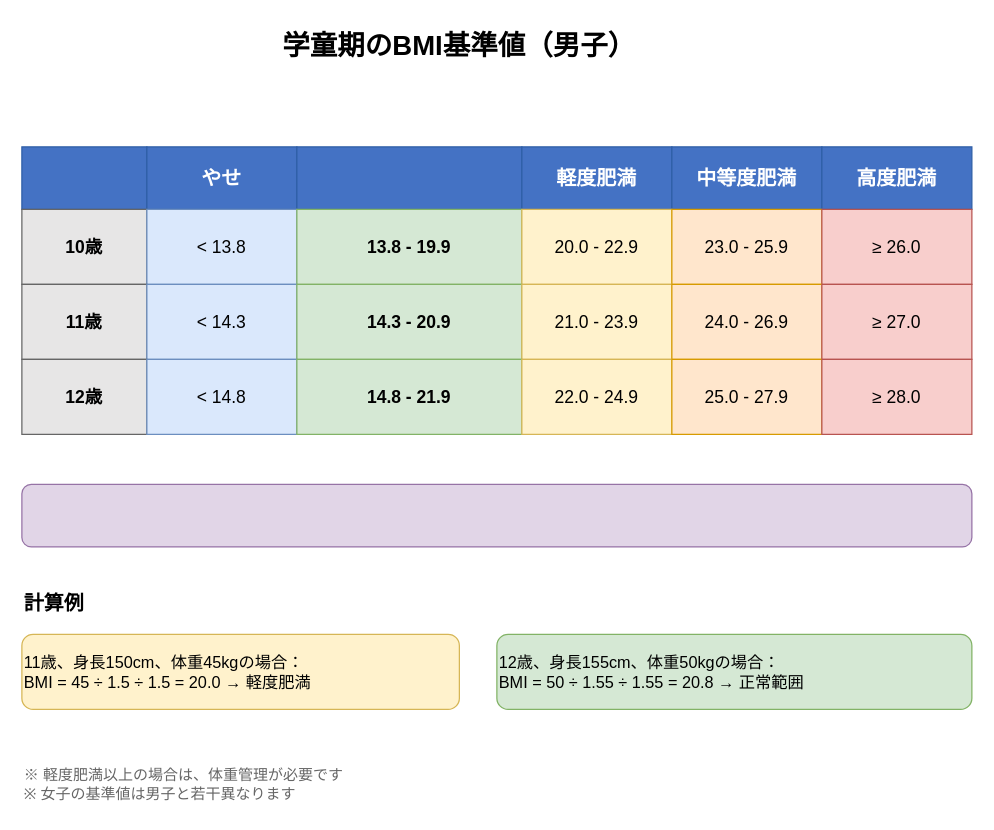
Image size: 994x830. Some labels were removed from this diagram. The shapes that lost their labels are listed below. From the top down, each one's centre as x and y in pixels, then its label:
At (84,177): "年齢".
At (409,177): "正常範囲".
At (496,515): "BMI = 体重(kg) ÷ 身長(m) ÷ 身長(m)".
